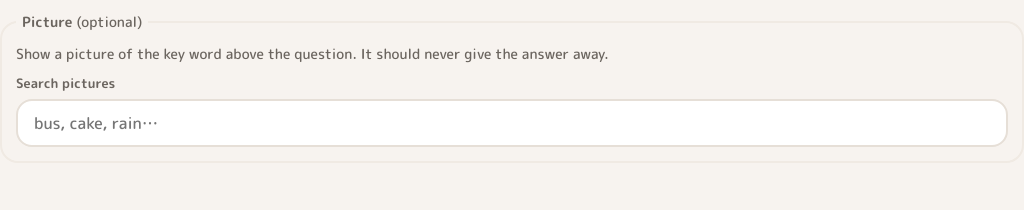
PicturePicker (editor) › says so when a search finds nothing
This screenshot has width=1024, height=210.
Type "zzz" into the search field labelled "Search pictures".
click(512, 123); type("zzz")  # box [16,99,1008,147]
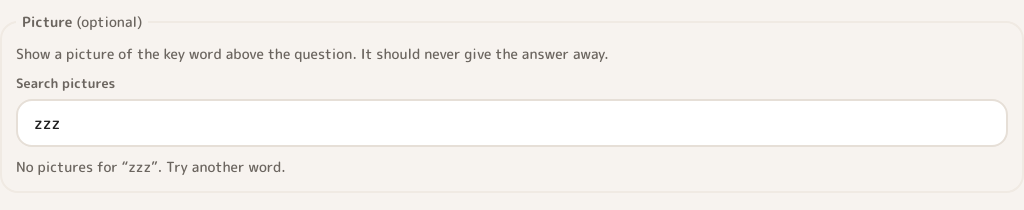
expect the text "No pictures for “zzz”. Try another word." is shown: met, box [16,157,286,176]
